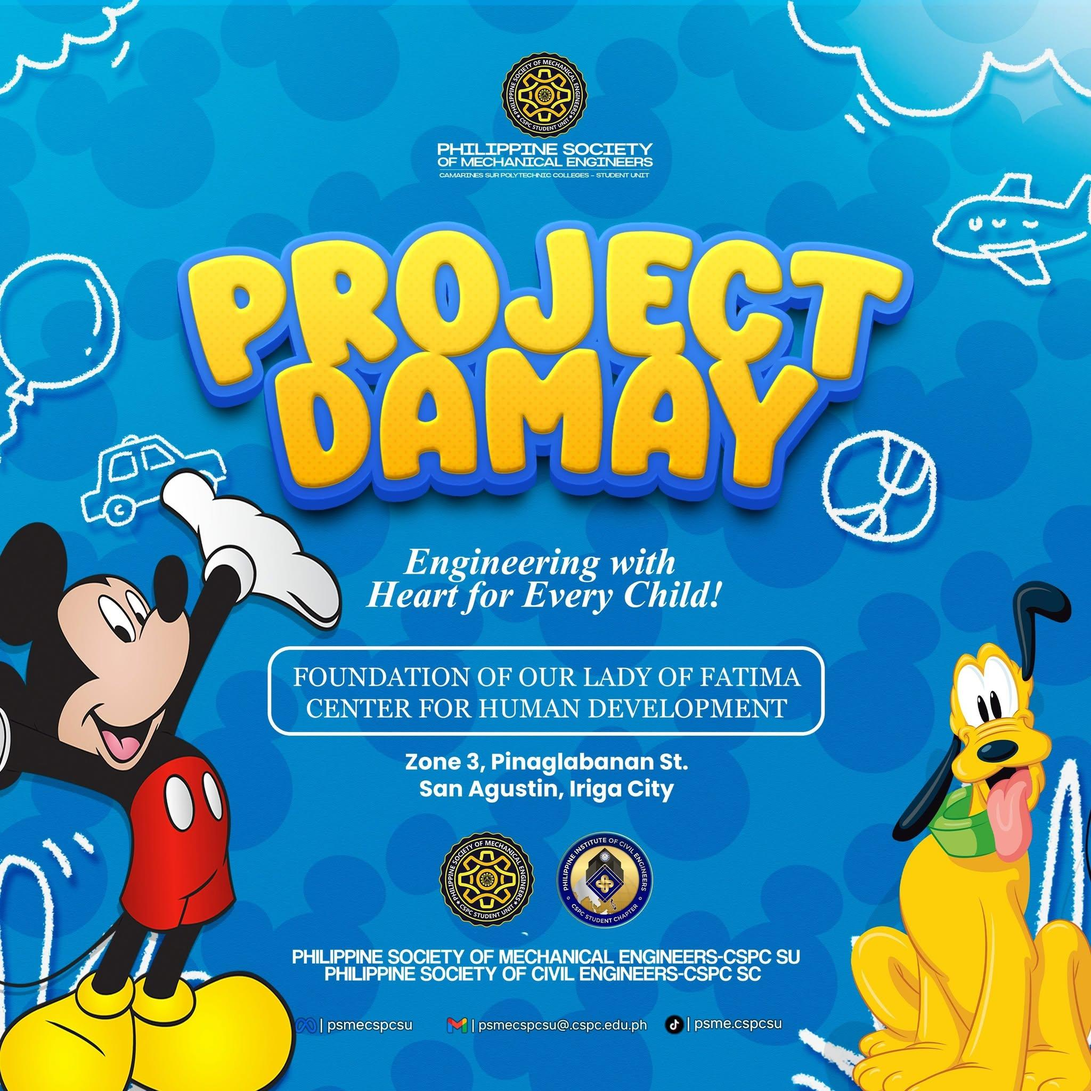embellishment: (0, 462, 353, 1090), (840, 564, 1088, 1090), (780, 0, 1091, 137), (0, 253, 119, 444), (0, 833, 96, 1021), (932, 174, 1091, 286), (0, 7, 162, 95), (80, 434, 227, 526), (820, 431, 937, 542), (441, 1012, 473, 1038), (662, 1008, 685, 1042), (294, 1013, 320, 1035)
logo: (558, 833, 652, 929), (439, 833, 533, 927), (500, 51, 588, 140), (500, 51, 587, 139)
text: (178, 222, 915, 514), (295, 666, 801, 718), (365, 549, 723, 615), (292, 949, 800, 981), (406, 753, 687, 802), (437, 143, 654, 178), (474, 1016, 651, 1035), (689, 1018, 781, 1037), (322, 1020, 422, 1036)
underlay: (261, 639, 834, 738)
